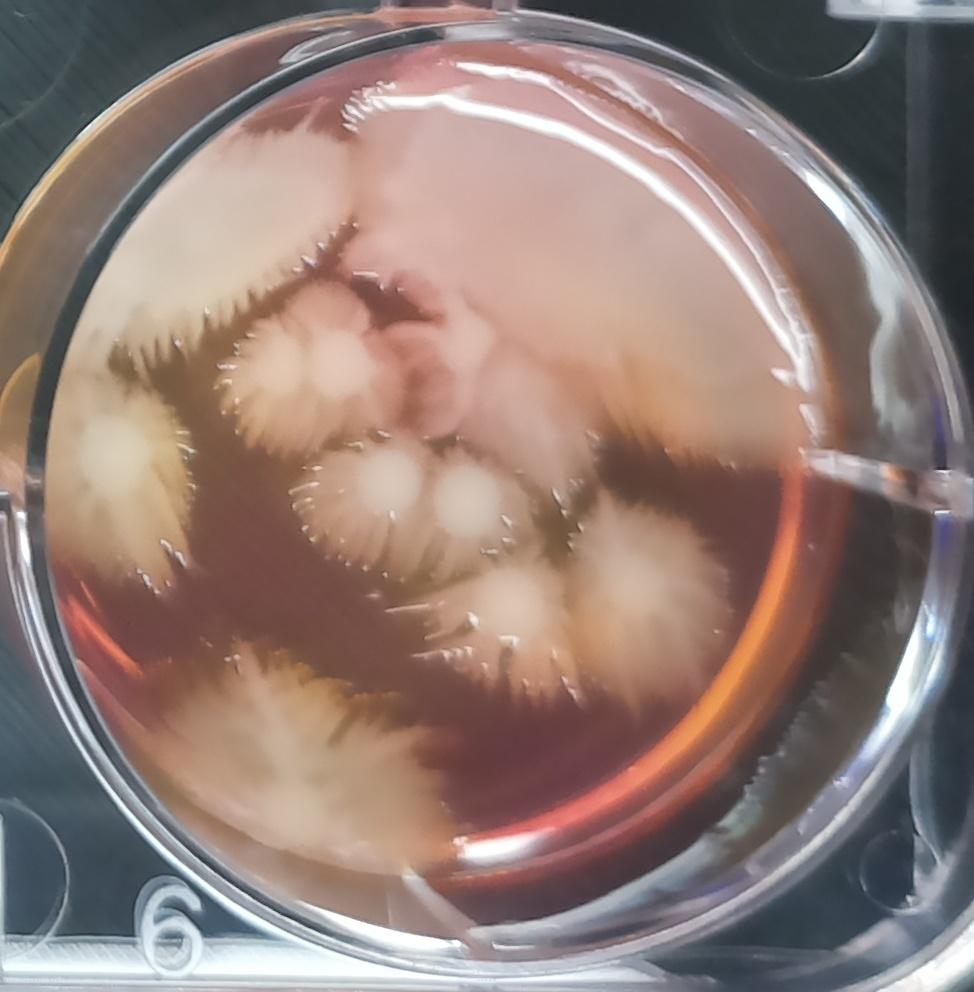vproteolyticus: (342, 37, 873, 492), (126, 643, 483, 925), (59, 90, 355, 371), (7, 365, 198, 625), (289, 418, 549, 602), (560, 482, 760, 714), (205, 248, 401, 472), (385, 548, 593, 719)
